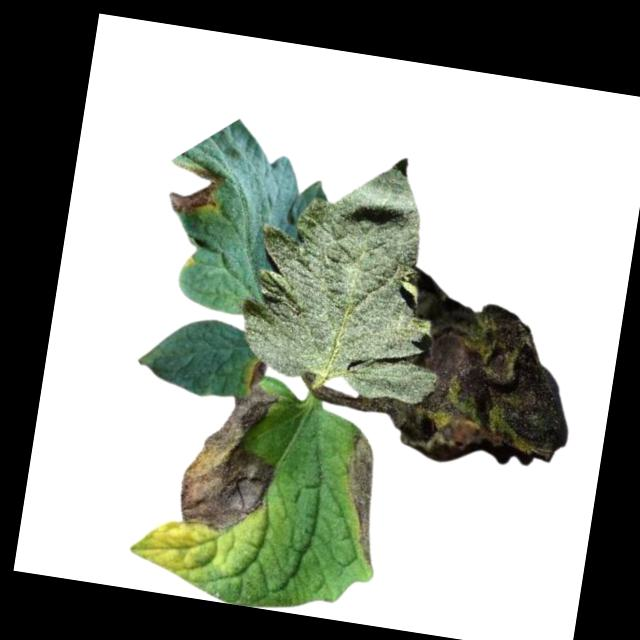Early_blight: (347, 276, 588, 480), (174, 377, 280, 536), (333, 428, 392, 561), (165, 161, 225, 217), (246, 356, 269, 388)
healthy: (232, 136, 471, 407)
